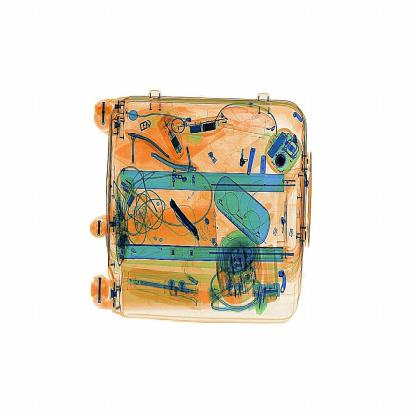knife: (167, 195, 209, 252)
